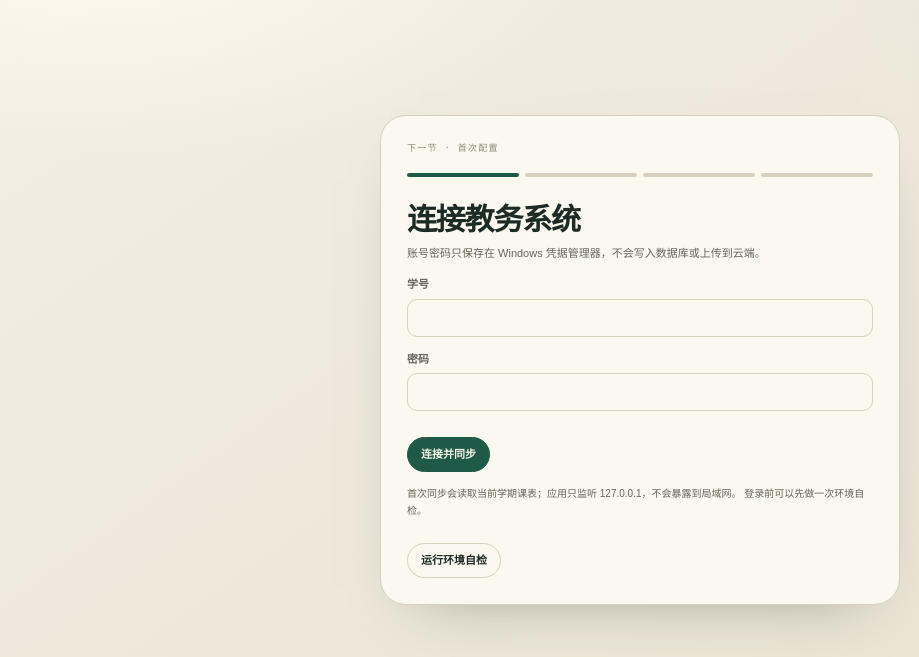
SetupWizard › saves and tests a Server酱 SendKey
Type "20250001" into the field labelled "学号" at coordinates (640, 318), box [407,299,873,337]
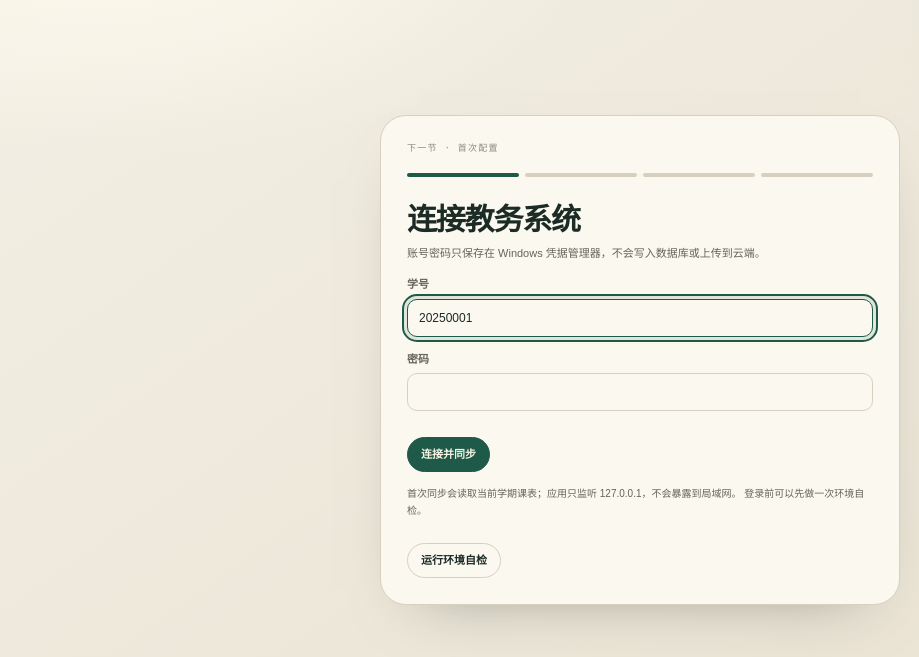
Type "pw" into the password field labelled "密码" at coordinates (640, 392), box [407,373,873,411]
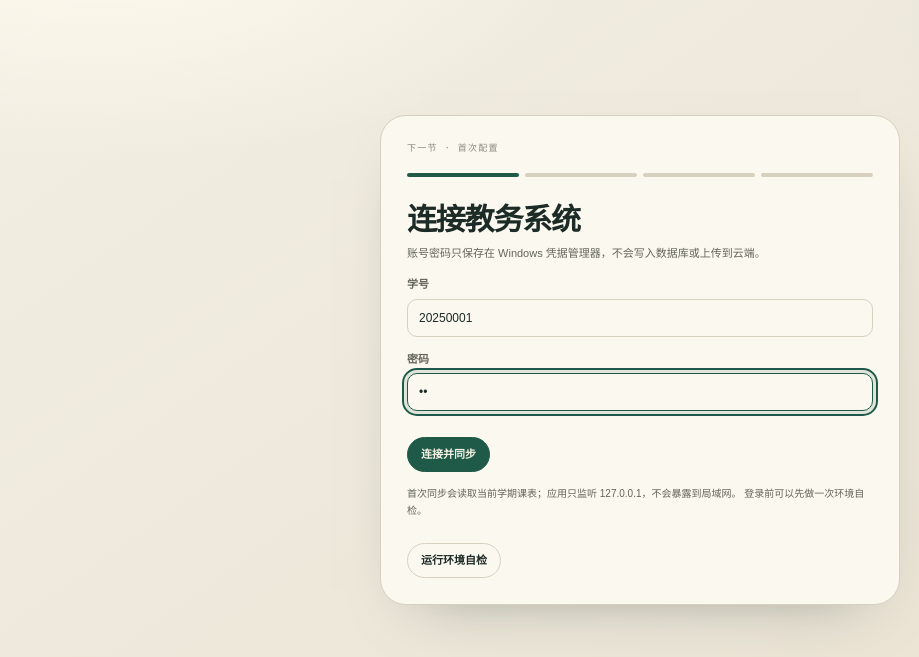
Click the button "连接并同步" at coordinates (448, 455), box [407,437,490,472]
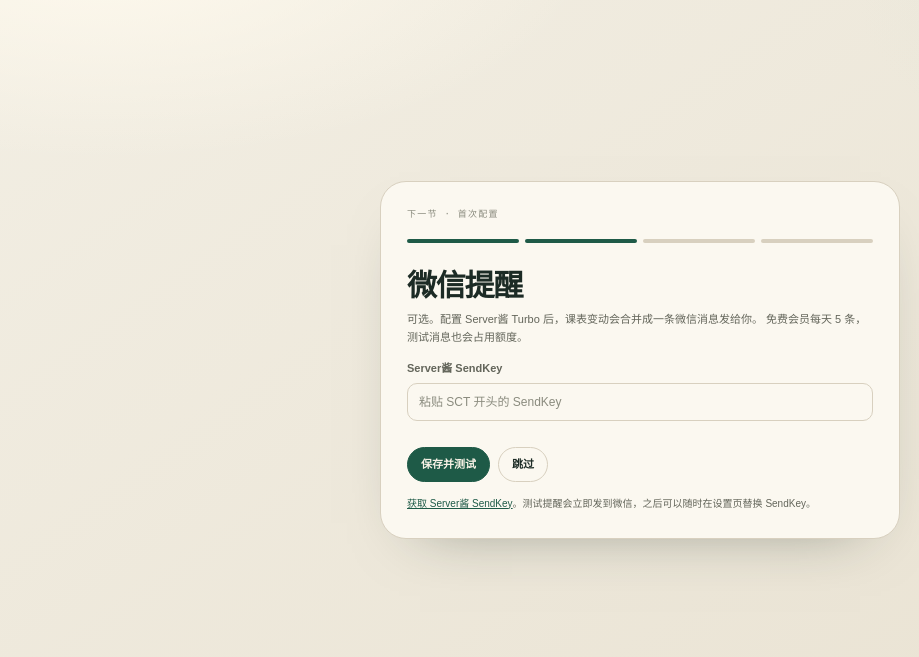
Check: the heading "微信提醒" is shown, box [407,269,522,302]
Type "SCTpush-token" into the password field labelled "Server酱 SendKey" at coordinates (640, 402), box [407,383,873,421]
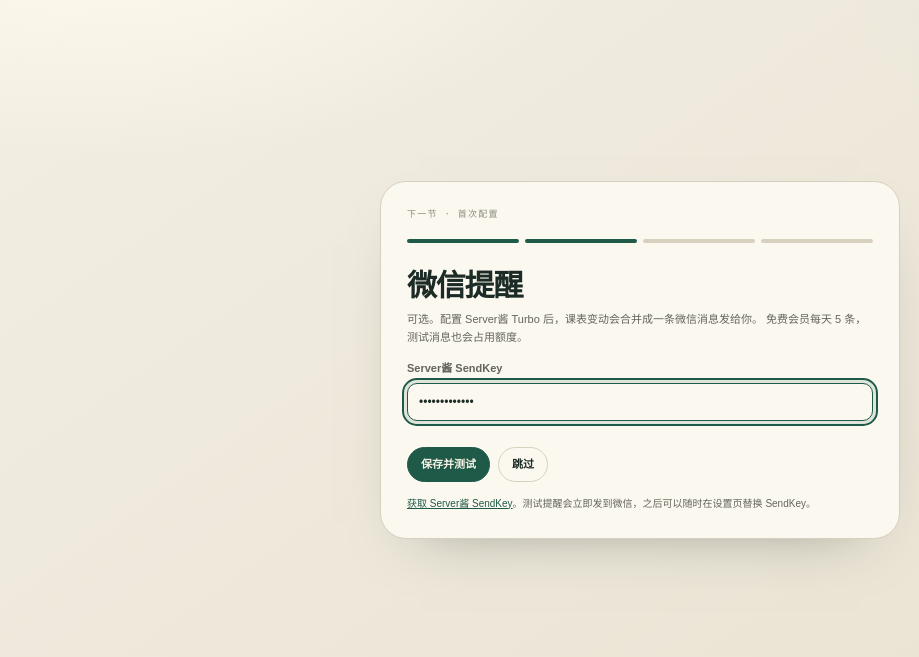
Click the button "保存并测试" at coordinates (448, 464), box [407,447,490,482]
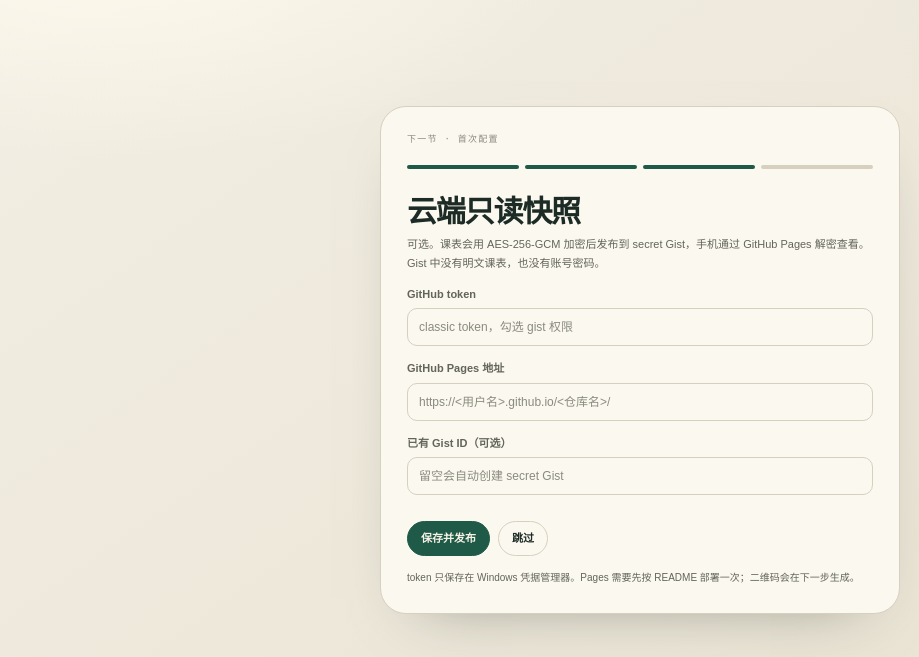
Check: the heading "云端只读快照" is shown, box [407,195,580,228]
